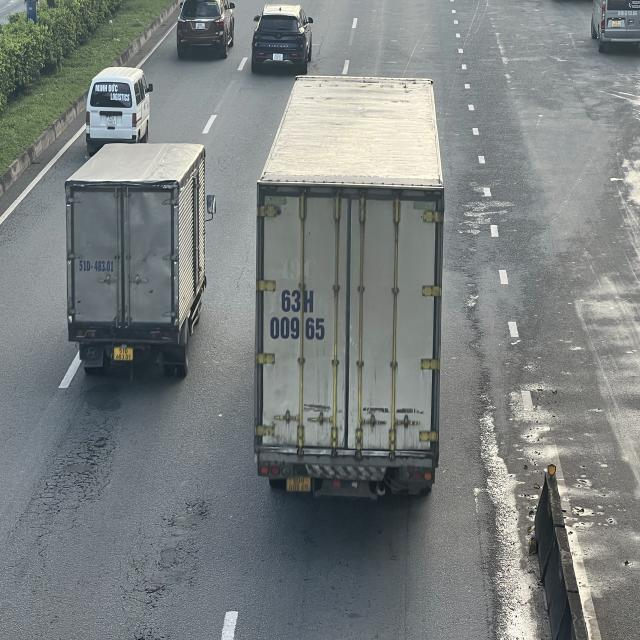car: (250, 2, 313, 70), (177, 0, 237, 55)
truck: (252, 70, 439, 496), (66, 147, 216, 383)
van: (84, 66, 150, 153)
